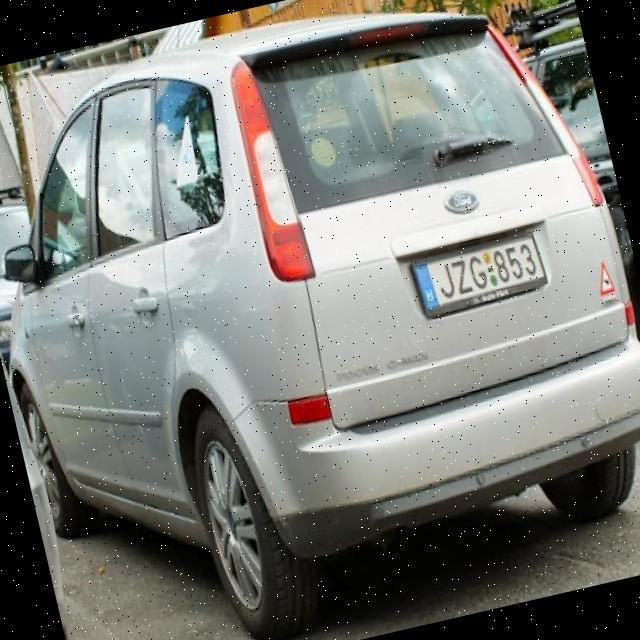licence: (406, 219, 553, 324)
